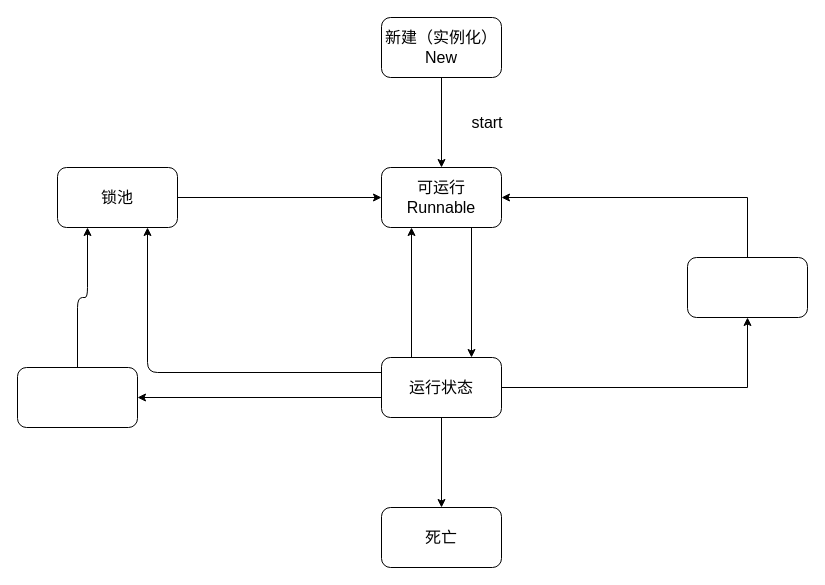
Some shapes in this 825 by 585 pixel diagram are drawn without their labels. Here are the shapes that lost their labels. From the top down, the centre of each, then its label:
At point (747, 287): "阻塞 BLOCKED".
At point (77, 397): "等待队列".
